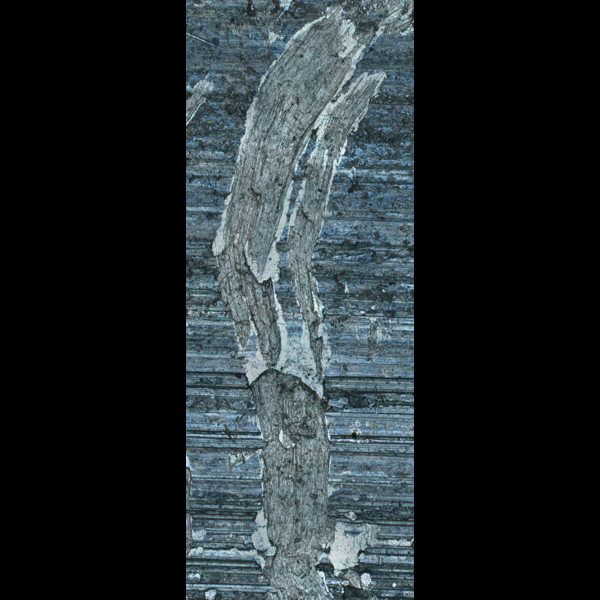d: (206, 96, 342, 339), (221, 299, 337, 489), (259, 4, 406, 144), (234, 490, 392, 600), (185, 524, 222, 599)
